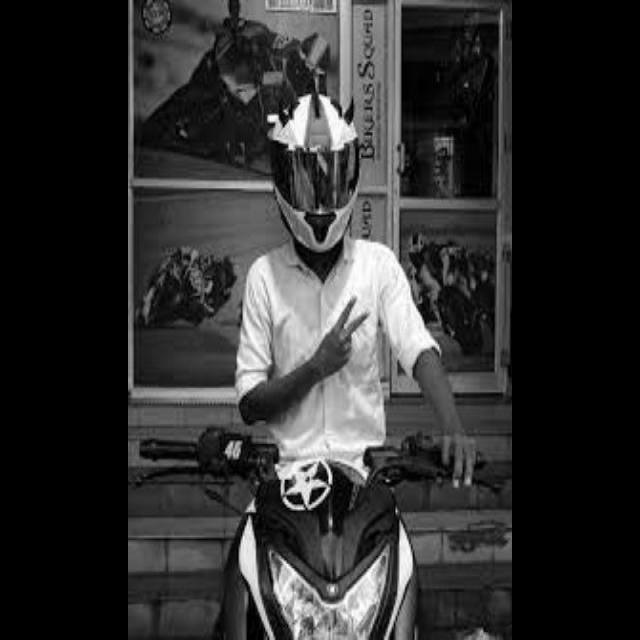5_casco: (268, 79, 361, 253)
